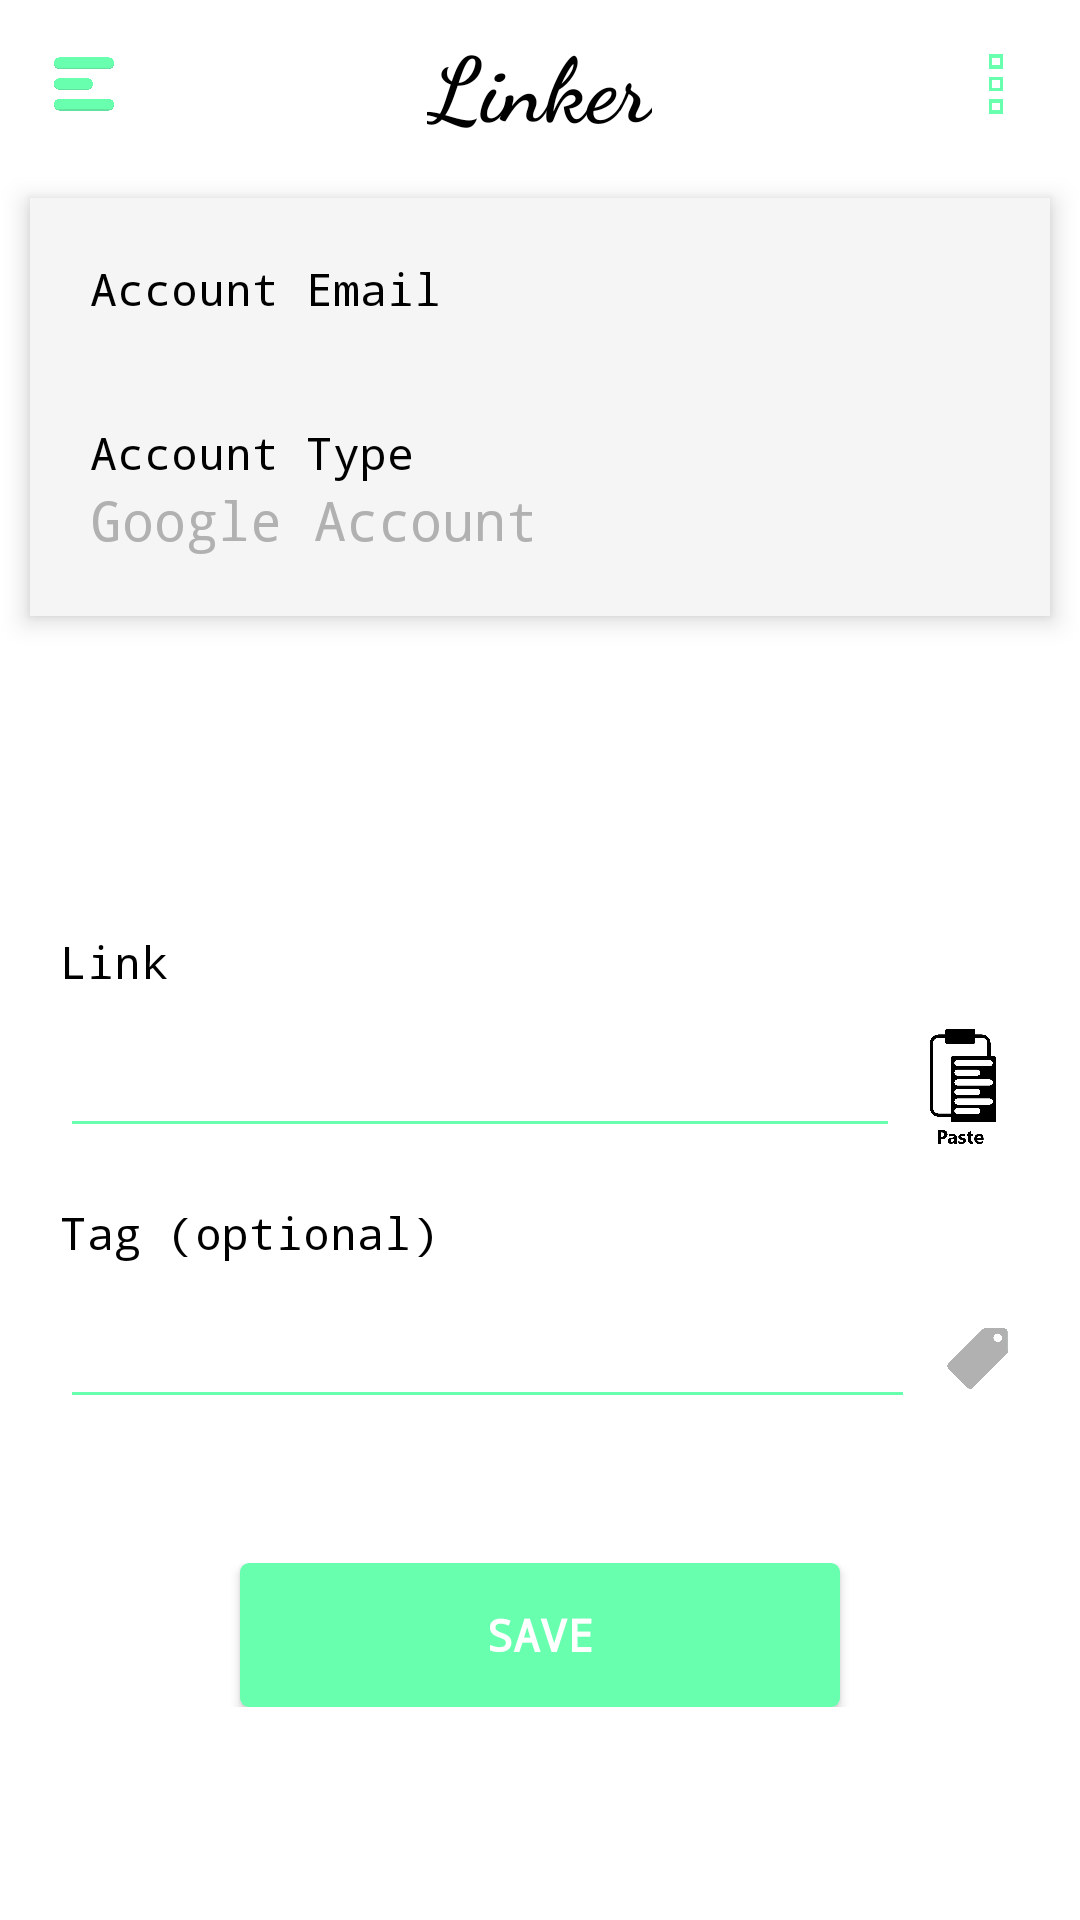

Where icons sit on this 1080px x 1920px app screen, as Rect(x1, y1, x2, y2):
hamburgermenu: Rect(54, 57, 114, 111)
tag: Rect(947, 1328, 1008, 1389)
